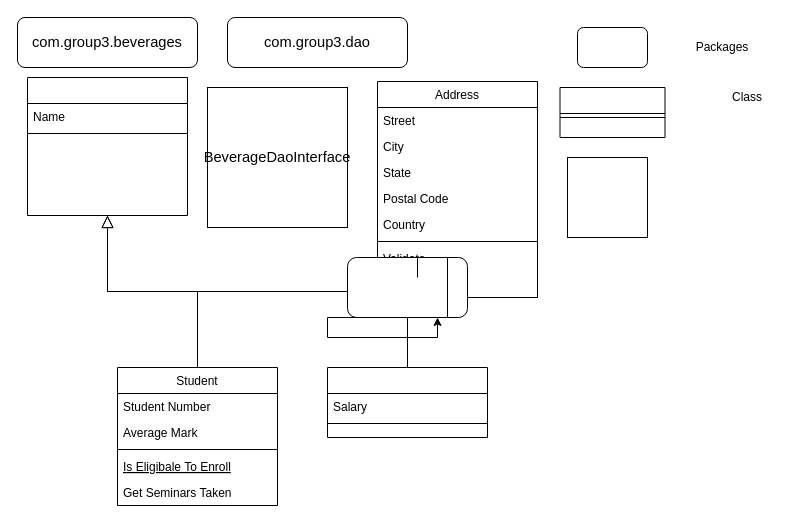
Some shapes in this 805 by 526 pixel diagram are drawn without their labels. Here are the shapes that lost their labels. From the top down, the box of each, then its label:
(26, 76, 188, 216): Beverages
(346, 256, 468, 318): Text
(326, 366, 488, 438): Professor
